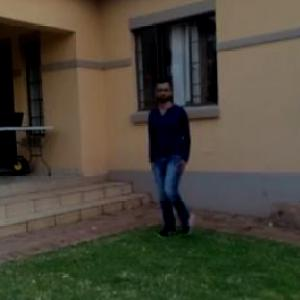follow: (149, 81, 200, 235)
